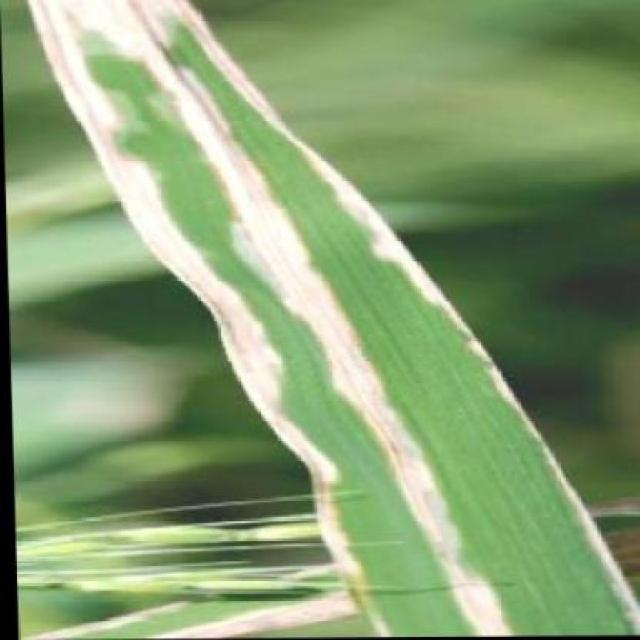Brown_Spot: (92, 0, 370, 478)
